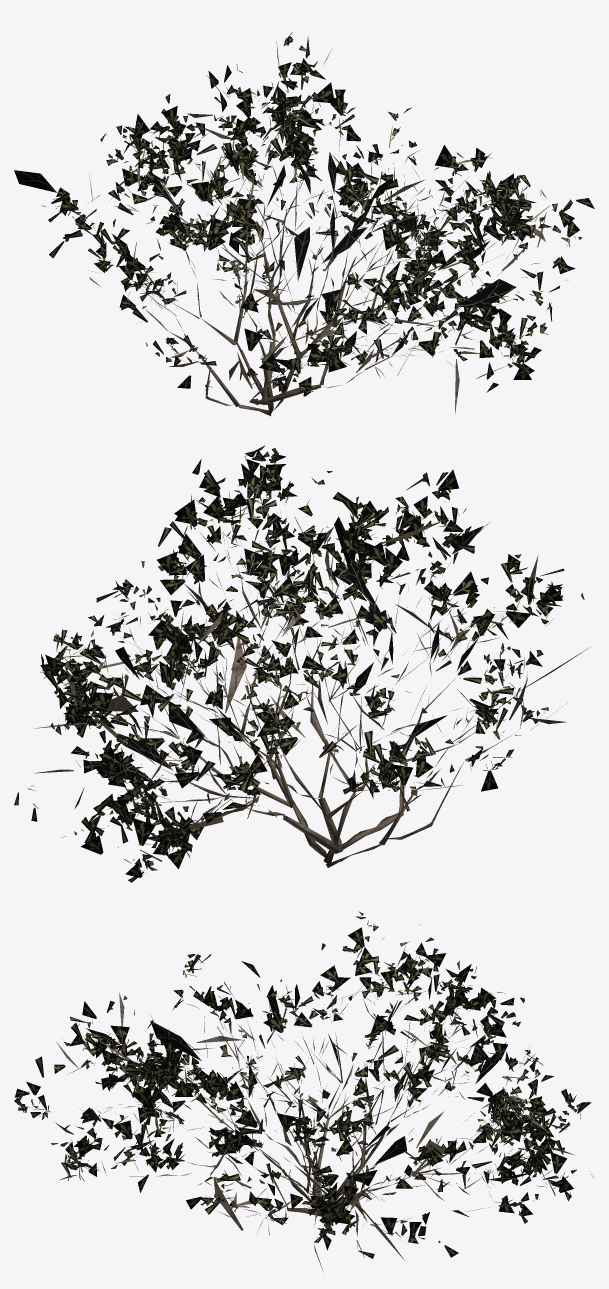
File: chapbig_large.glb
3 views of the same model, one above another, from view 1: azimuth 30°, elevation 25°; view 2: azimuth 150°, elevation 25°; view 3: azimuth 270°, elevation 25° (orthographic). The views are drawn at different scales.
Parts seen in each view (by area): view 1: Cube.014; view 2: Cube.014; view 3: Cube.014.
Part boxes in pixels (x1,y1,x2,y2): Cube.014: (14, 14, 594, 415); Cube.014: (14, 445, 589, 882); Cube.014: (14, 911, 593, 1270).
Bounding box in the file's own units: 4.12 × 3.22 × 4.99.
3 materials, 3 textured.
